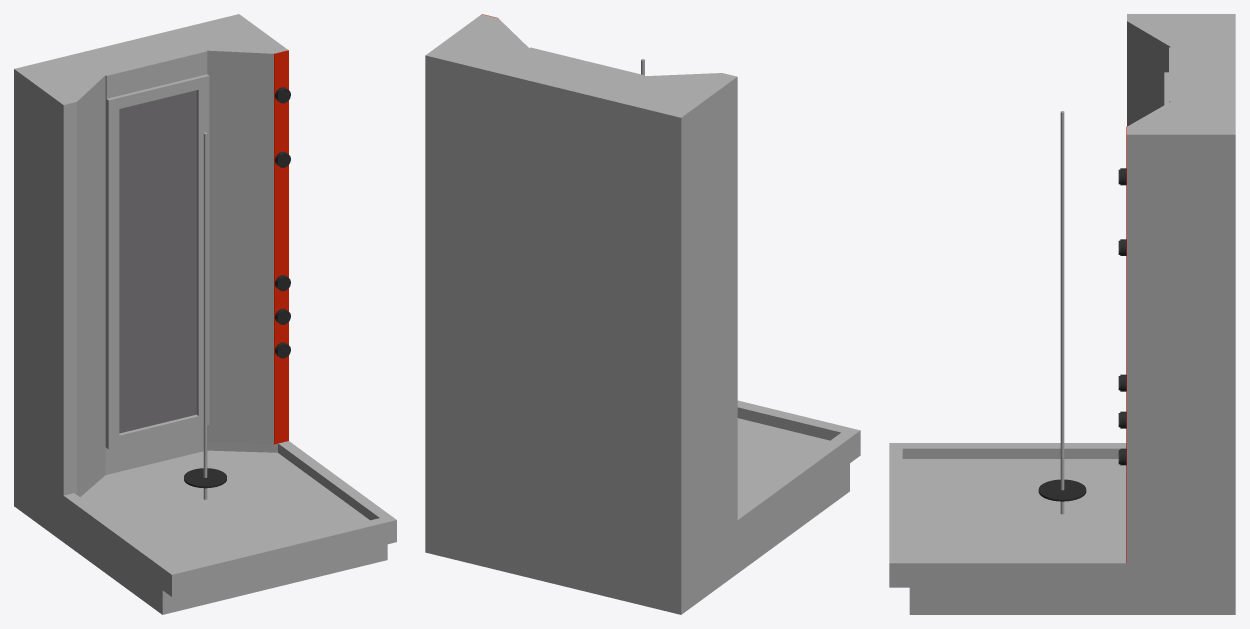
File: Shawarma-Vertical-Broiler.glb
3 views of the same model, side by side, from view 1: azimuth 30°, elevation 25°; view 2: azimuth 150°, elevation 25°; view 3: azimuth 270°, elevation 25° (orthographic). The views are drawn at different scales.
Parts seen in each view (by area): view 1: GST_Shawarma_Vertical Broiler(gas)_Uniworld VBR-2E; view 2: GST_Shawarma_Vertical Broiler(gas)_Uniworld VBR-2E; view 3: GST_Shawarma_Vertical Broiler(gas)_Uniworld VBR-2E.
Part boxes in pixels (box(x1,y1,x2,y2)): GST_Shawarma_Vertical Broiler(gas)_Uniworld VBR-2E: box(14, 14, 396, 614); GST_Shawarma_Vertical Broiler(gas)_Uniworld VBR-2E: box(425, 14, 860, 614); GST_Shawarma_Vertical Broiler(gas)_Uniworld VBR-2E: box(889, 14, 1235, 614).
Size of the model in its own units: 0.3676 by 0.6827 by 0.4464.
